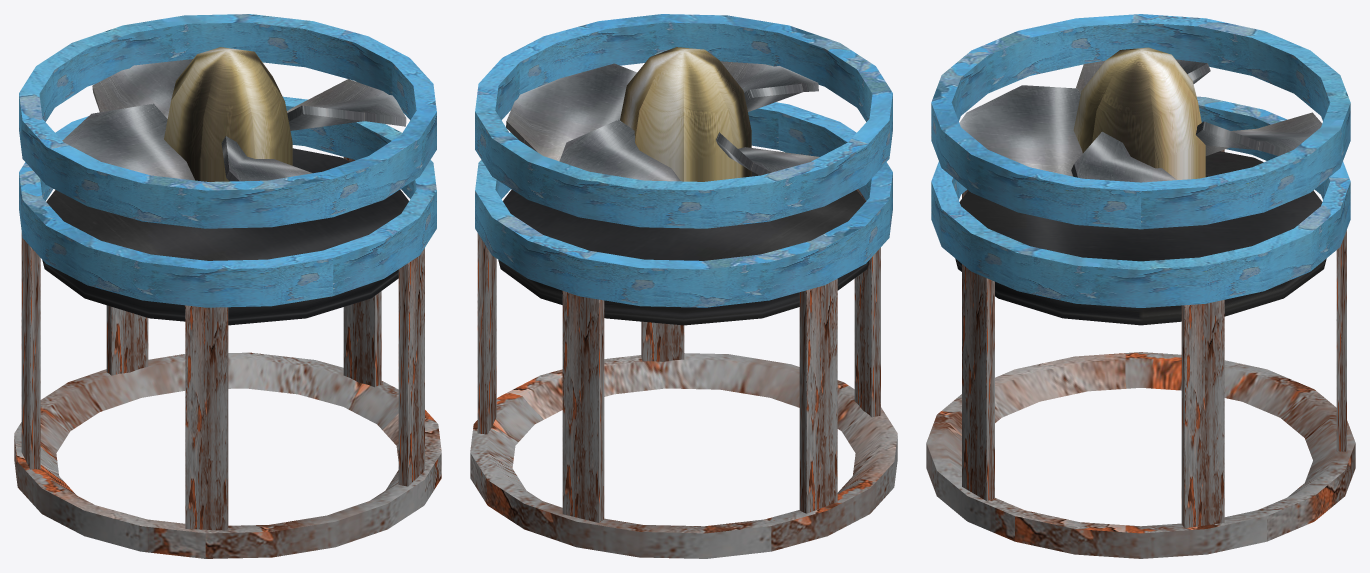
File: static.glb
3 renders of one model, left to right at view 1: azimuth 30°, elevation 25°; view 2: azimuth 150°, elevation 25°; view 3: azimuth 270°, elevation 25°, orthographic.
Visible parts, largest first — view 1: Tube, Disc, Tube_2, Cylinder, Cylinder_2, Cube_4, Cube_3, Subdivision_Surface_4, Cube_5, Subdivision_Surface_2, Subdivision_Surface, Cube_2 (+2 smaller); view 2: Tube, Disc, Tube_2, Cylinder, Cylinder_2, Cube, Cube_5, Subdivision_Surface_2, Cube_4, Subdivision_Surface, Cube_2, Subdivision_Surface_3 (+2 smaller); view 3: Tube, Disc, Tube_2, Cylinder, Cylinder_2, Cube_2, Subdivision_Surface_3, Cube_3, Subdivision_Surface, Subdivision_Surface_2, Cube, Subdivision_Surface_4.
Boxes of the visible parts, <box> form: Tube: <box>19,14,436,228</box>; Disc: <box>14,352,441,558</box>; Tube_2: <box>19,96,436,307</box>; Cylinder: <box>42,148,408,325</box>; Cylinder_2: <box>164,47,292,181</box>; Cube_4: <box>185,305,228,530</box>; Cube_3: <box>398,248,424,486</box>; Subdivision_Surface_4: <box>62,103,195,180</box>; Cube_5: <box>21,232,40,469</box>; Subdivision_Surface_2: <box>287,79,406,130</box>; Subdivision_Surface: <box>92,59,192,118</box>; Cube_2: <box>343,157,381,387</box>; Tube: <box>475,14,892,228</box>; Disc: <box>470,353,897,558</box>; Tube_2: <box>475,102,892,307</box>; Cylinder: <box>498,171,869,325</box>; Cylinder_2: <box>620,47,751,181</box>; Cube: <box>562,291,604,522</box>; Cube_5: <box>799,278,837,513</box>; Subdivision_Surface_2: <box>506,63,636,161</box>; Cube_4: <box>854,189,880,417</box>; Subdivision_Surface: <box>559,119,680,181</box>; Cube_2: <box>477,233,496,434</box>; Subdivision_Surface_3: <box>720,61,818,111</box>; Tube: <box>931,14,1350,229</box>; Disc: <box>926,352,1355,558</box>; Tube_2: <box>931,96,1350,307</box>; Cylinder: <box>955,151,1326,325</box>; Cylinder_2: <box>1073,47,1205,179</box>; Cube_2: <box>1181,300,1224,528</box>; Subdivision_Surface_3: <box>959,85,1082,176</box>; Cube_3: <box>962,264,994,500</box>; Subdivision_Surface: <box>1196,112,1322,155</box>; Subdivision_Surface_2: <box>1071,131,1176,182</box>; Cube: <box>1336,230,1346,451</box>; Subdivision_Surface_4: <box>1076,59,1210,94</box>.
Bounding box in the file's own units: 0.7017 × 0.7515 × 0.7017.
5 materials, 5 textured.
